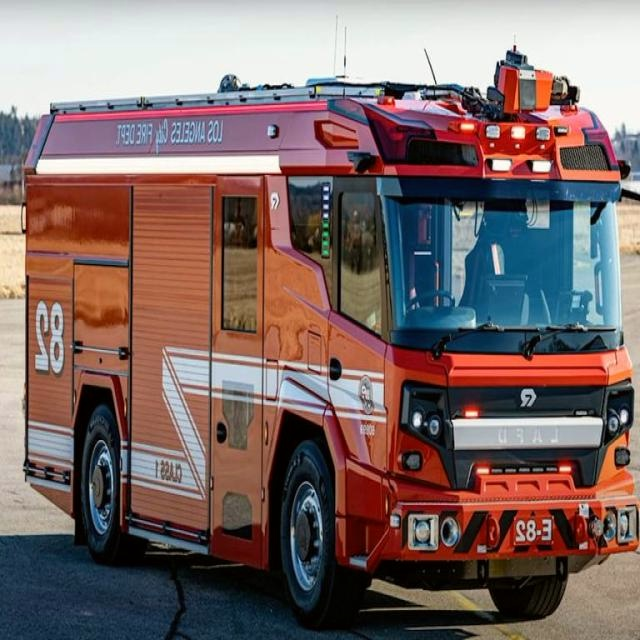Fire-truck: (20, 39, 640, 630)
